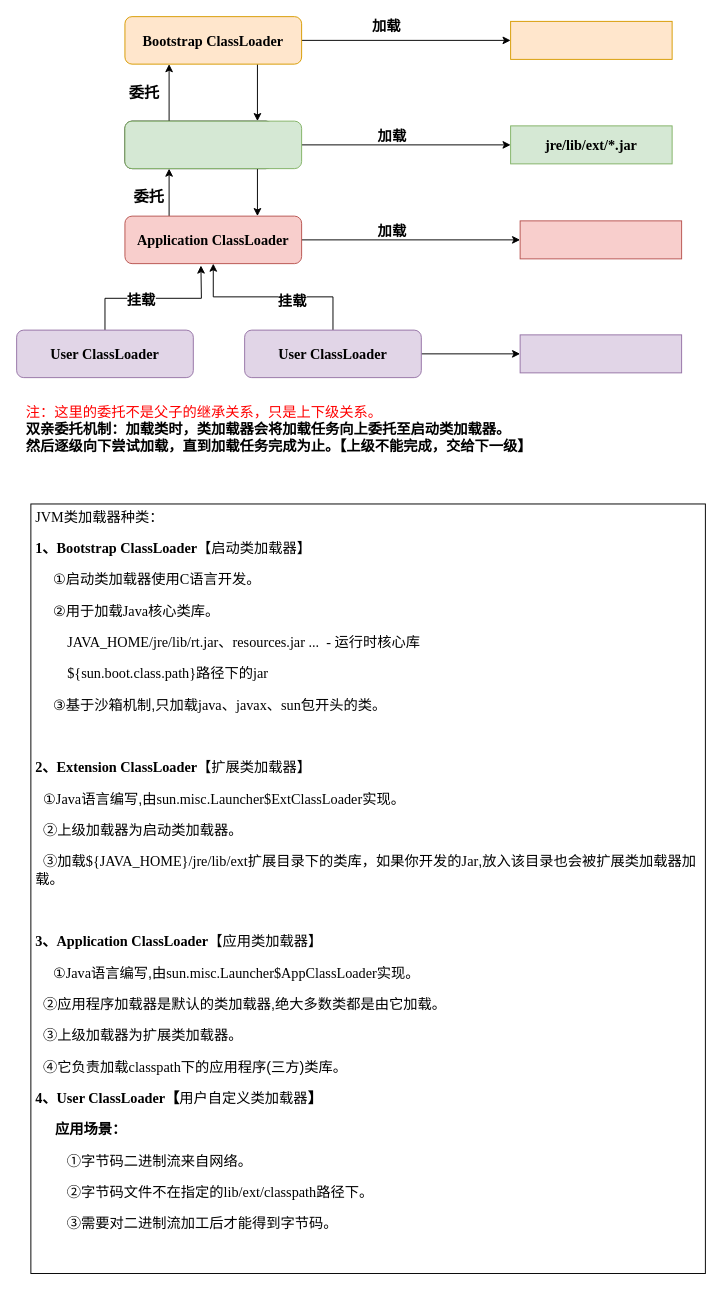
This 722x1290 diagram has some shape labels left out. The shapes that lost their labels are listed below. From the top down, each one's centre as x and y in pixels, then its label:
At pixel 591 39: "jre/lib/rt.jar".
At pixel 213 144: "Extension ClassLoader".
At pixel 600 239: "CLASS_PATH 目录下的所有 jar".
At pixel 600 353: "自定义目录中的 class 文件".
